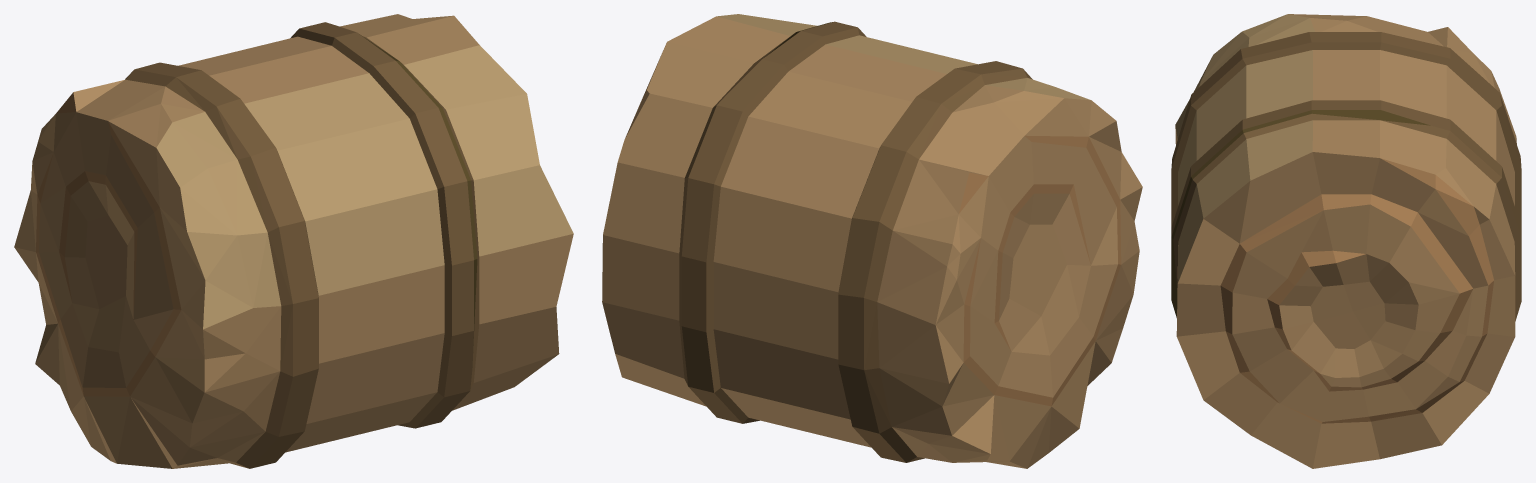
Rendered from hay-bale.glb.
3 views of the same model, side by side, from view 1: azimuth 30°, elevation 25°; view 2: azimuth 150°, elevation 25°; view 3: azimuth 270°, elevation 25° (orthographic). The views are drawn at different scales.
Visible parts, largest first — view 1: EA_M_HayBale_Dry_01a; view 2: EA_M_HayBale_Dry_01a; view 3: EA_M_HayBale_Dry_01a.
Boxes of the visible parts, x1,y1,x2,y2 form: EA_M_HayBale_Dry_01a: (14,14,573,468); EA_M_HayBale_Dry_01a: (602,14,1142,468); EA_M_HayBale_Dry_01a: (1171,14,1521,468).
Size of the model in its own units: 0.9809 by 0.8359 by 0.8359.
